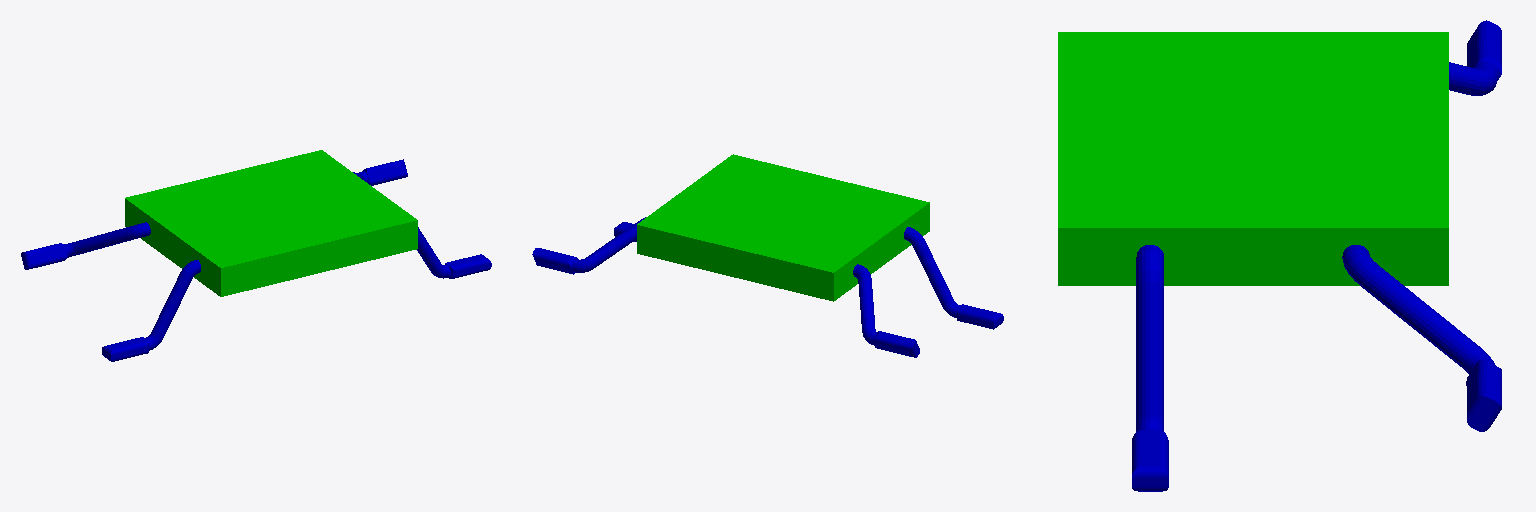
robot.urdf — Strirus:
<?xml version="1.0" ?>
<!-- =================================================================================== -->
<!-- |    This document was autogenerated by xacro from strirus.xacro                  | -->
<!-- |    EDITING THIS FILE BY HAND IS NOT RECOMMENDED                                 | -->
<!-- =================================================================================== -->
<robot name="Strirus" xmlns:xacro="http://www.ros.org/wiki/xacro">
  <!-- plugins -->
  <!--   <gazebo>
    <plugin name="gazebo_ros_control" filename="libgazebo_ros_control.so" >
      <robotNamespace>/strirus</robotNamespace>
    </plugin>
  </gazebo>
-->
  <gazebo>
    <plugin filename="libgazebo_ros_diff_drive.so" name="differential_drive_controller">
      <alwaysOn>true</alwaysOn>
      <updateRate>30</updateRate>
      <leftJoint>leg_left_0_revolute_joint</leftJoint>
      <rightJoint>leg_right_0_revolute_joint</rightJoint>
      <wheelSeparation>2.5</wheelSeparation>
      <wheelDiameter>0.4</wheelDiameter>
      <legacyMode>false</legacyMode>
      <torque>40</torque>
      <commandTopic>cmd_vel</commandTopic>
      <odometryTopic>odom</odometryTopic>
      <odometryFrame>odom</odometryFrame>
      <robotBaseFrame>base_link</robotBaseFrame>
    </plugin>
  </gazebo>
  <!-- Import Rviz colors -->
  <material name="black">
    <color rgba="0.0 0.0 0.0 1.0"/>
  </material>
  <material name="blue">
    <color rgba="0.0 0.0 0.8 1.0"/>
  </material>
  <material name="green">
    <color rgba="0.0 0.8 0.0 1.0"/>
  </material>
  <material name="grey">
    <color rgba="0.2 0.2 0.2 1.0"/>
  </material>
  <material name="orange">
    <color rgba="1.0 0.423529411765 0.0392156862745 1.0"/>
  </material>
  <material name="brown">
    <color rgba="0.870588235294 0.811764705882 0.764705882353 1.0"/>
  </material>
  <material name="red">
    <color rgba="0.8 0.0 0.0 1.0"/>
  </material>
  <material name="white">
    <color rgba="1.0 1.0 1.0 1.0"/>
  </material>
  <!-- Body description -->
  <link name="base_link"/>
  <joint name="base_link_body_fixed" type="fixed">
    <parent link="base_link"/>
    <child link="body"/>
  </joint>
  <!-- /////////////// -->
  <link name="body">
    <inertial>
      <!-- 250 value is mass density, the value is just empiric-->
      <mass value="0.0924358891325"/>
      <origin rpy="0  0  0" xyz="0 0.528205080757  0.5"/>
      <!-- 			<inertia 
				ixx="${1/12 * body_weight * (body_height * body_height + body_length * body_length)}"  ixy="0"  ixz="0" 
				iyy="${1/12 * body_weight * (body_height * body_height + body_width * body_width)}" iyz="0" 
				izz="${1/12 * body_weight * (body_length * body_length + body_width * body_width)}" /> -->
      <inertia ixx="0.000" ixy="0" ixz="0" iyy="0.000" iyz="0" izz="0.000"/>
    </inertial>
    <collision>
      <origin rpy="0  0  0" xyz="0 0.528205080757  0.5"/>
      <geometry>
        <box size="1.25 1.05641016151 0.175"/>
      </geometry>
    </collision>
    <visual>
      <origin rpy="0  0  0" xyz="0 0.528205080757  0.5"/>
      <geometry>
        <box size="1.25 1.05641016151 0.175"/>
      </geometry>
      <material name="green"/>
    </visual>
  </link>
  <link name="leg_left_1">
    <inertial>
      <mass value="0.05"/>
      <origin rpy="0  0  0" xyz="0 0 0"/>
      <inertia ixx="0.000" ixy="0" ixz="0" iyy="0.000" iyz="0" izz="0.000"/>
    </inertial>
    <collision>
      <origin rpy="1.0471975512 0 0" xyz="0 0 0"/>
      <geometry>
        <mesh filename="package://strirus_robot_description/meshes/stl/leg_30_degree_normal.stl" scale="1.0 1.0 1.0"/>
      </geometry>
      <gazebo>
        <surface>
          <friction>
            <ode>
              <mu>0.2000</mu>
              <mu2>0.2000</mu2>
              <fdir1>0.000000 0.000000 0.000000</fdir1>
              <slip1>0.000000</slip1>
              <slip2>0.000000</slip2>
            </ode>
          </friction>
          <bounce>
            <restitution_coefficient>0.000000</restitution_coefficient>
            <threshold>100000.000000</threshold>
          </bounce>
          <contact>
            <ode>
              <soft_cfm>0.000000</soft_cfm>
              <soft_erp>0.200000</soft_erp>
              <kp>100000.000000</kp>
              <kd>1.000000</kd>
              <max_vel>100.000000</max_vel>
              <min_depth>0.001000</min_depth>
            </ode>
          </contact>
        </surface>
      </gazebo>
    </collision>
    <visual>
      <origin rpy="1.0471975512 0 0" xyz="0 0 0"/>
      <geometry>
        <mesh filename="package://strirus_robot_description/meshes/stl/leg_30_degree_normal.stl" scale="1.0 1.0 1.0"/>
      </geometry>
      <material name="blue"/>
    </visual>
  </link>
  <!-- /////////////// -->
  <joint name="leg_left_1_revolute_joint" type="revolute">
    <parent link="body"/>
    <child link="leg_left_1"/>
    <origin rpy="0       0      0" xyz="0.25 0.806410161514  0.5"/>
    <axis xyz="1 0  0"/>
    <limit effort="30" lower="-1e+100" upper="1e+100" velocity="10"/>
    <joint_properties damping="0.0" friction="0.0"/>
  </joint>
  <!-- /////////////// -->
  <transmission name="leg_left_1_transmission">
    <type>transmission_interface/SimpleTransmission</type>
    <joint name="leg_left_1_revolute_joint">
      <hardwareInterface>VelocityJointInterface</hardwareInterface>
    </joint>
    <actuator name="leg_left_0_actuator">
      <hardwareInterface>VelocityJointInterface</hardwareInterface>
      <mechanicalReduction>1</mechanicalReduction>
    </actuator>
  </transmission>
  <link name="leg_left_0">
    <inertial>
      <mass value="0.05"/>
      <origin rpy="0  0  0" xyz="0 0 0"/>
      <inertia ixx="0.000" ixy="0" ixz="0" iyy="0.000" iyz="0" izz="0.000"/>
    </inertial>
    <collision>
      <origin rpy="0.0 0 0" xyz="0 0 0"/>
      <geometry>
        <mesh filename="package://strirus_robot_description/meshes/stl/leg_30_degree_normal.stl" scale="1.0 1.0 1.0"/>
      </geometry>
      <gazebo>
        <surface>
          <friction>
            <ode>
              <mu>0.2000</mu>
              <mu2>0.2000</mu2>
              <fdir1>0.000000 0.000000 0.000000</fdir1>
              <slip1>0.000000</slip1>
              <slip2>0.000000</slip2>
            </ode>
          </friction>
          <bounce>
            <restitution_coefficient>0.000000</restitution_coefficient>
            <threshold>100000.000000</threshold>
          </bounce>
          <contact>
            <ode>
              <soft_cfm>0.000000</soft_cfm>
              <soft_erp>0.200000</soft_erp>
              <kp>100000.000000</kp>
              <kd>1.000000</kd>
              <max_vel>100.000000</max_vel>
              <min_depth>0.001000</min_depth>
            </ode>
          </contact>
        </surface>
      </gazebo>
    </collision>
    <visual>
      <origin rpy="0.0 0 0" xyz="0 0 0"/>
      <geometry>
        <mesh filename="package://strirus_robot_description/meshes/stl/leg_30_degree_normal.stl" scale="1.0 1.0 1.0"/>
      </geometry>
      <material name="blue"/>
    </visual>
  </link>
  <!-- /////////////// -->
  <joint name="leg_left_0_revolute_joint" type="revolute">
    <parent link="body"/>
    <child link="leg_left_0"/>
    <origin rpy="0       0      0" xyz="0.25 0.25  0.5"/>
    <axis xyz="1 0  0"/>
    <limit effort="30" lower="-1e+100" upper="1e+100" velocity="10"/>
    <joint_properties damping="0.0" friction="0.0"/>
  </joint>
  <!-- /////////////// -->
  <transmission name="leg_left_0_transmission">
    <type>transmission_interface/SimpleTransmission</type>
    <joint name="leg_left_0_revolute_joint">
      <hardwareInterface>VelocityJointInterface</hardwareInterface>
    </joint>
    <actuator name="leg_left_0_actuator">
      <hardwareInterface>VelocityJointInterface</hardwareInterface>
      <mechanicalReduction>1</mechanicalReduction>
    </actuator>
  </transmission>
  <link name="leg_right_1">
    <inertial>
      <mass value="0.05"/>
      <origin rpy="0  0  0" xyz="0 0 0"/>
      <inertia ixx="0.000" ixy="0" ixz="0" iyy="0.000" iyz="0" izz="0.000"/>
    </inertial>
    <collision>
      <origin rpy="5.23598775598 0 3.14159265359" xyz="0 0 0"/>
      <geometry>
        <mesh filename="package://strirus_robot_description/meshes/stl/leg_30_degree_normal.stl" scale="1.0 1.0 1.0"/>
      </geometry>
      <gazebo>
        <surface>
          <friction>
            <ode>
              <mu>0.2000</mu>
              <mu2>0.2000</mu2>
              <fdir1>0.000000 0.000000 0.000000</fdir1>
              <slip1>0.000000</slip1>
              <slip2>0.000000</slip2>
            </ode>
          </friction>
          <bounce>
            <restitution_coefficient>0.000000</restitution_coefficient>
            <threshold>100000.000000</threshold>
          </bounce>
          <contact>
            <ode>
              <soft_cfm>0.000000</soft_cfm>
              <soft_erp>0.200000</soft_erp>
              <kp>100000.000000</kp>
              <kd>1.000000</kd>
              <max_vel>100.000000</max_vel>
              <min_depth>0.001000</min_depth>
            </ode>
          </contact>
        </surface>
      </gazebo>
    </collision>
    <visual>
      <origin rpy="5.23598775598 0 3.14159265359" xyz="0 0 0"/>
      <geometry>
        <mesh filename="package://strirus_robot_description/meshes/stl/leg_30_degree_normal.stl" scale="1.0 1.0 1.0"/>
      </geometry>
      <material name="blue"/>
    </visual>
  </link>
  <!-- /////////////// -->
  <joint name="leg_right_1_revolute_joint" type="revolute">
    <parent link="body"/>
    <child link="leg_right_1"/>
    <origin rpy="0       0      0" xyz="-0.25 0.806410161514  0.5"/>
    <axis xyz="1 0  0"/>
    <limit effort="30" lower="-1e+100" upper="1e+100" velocity="10"/>
    <joint_properties damping="0.0" friction="0.0"/>
  </joint>
  <!-- /////////////// -->
  <transmission name="leg_right_1_transmission">
    <type>transmission_interface/SimpleTransmission</type>
    <joint name="leg_right_1_revolute_joint">
      <hardwareInterface>VelocityJointInterface</hardwareInterface>
    </joint>
    <actuator name="leg_right_0_actuator">
      <hardwareInterface>VelocityJointInterface</hardwareInterface>
      <mechanicalReduction>1</mechanicalReduction>
    </actuator>
  </transmission>
  <link name="leg_right_0">
    <inertial>
      <mass value="0.05"/>
      <origin rpy="0  0  0" xyz="0 0 0"/>
      <inertia ixx="0.000" ixy="0" ixz="0" iyy="0.000" iyz="0" izz="0.000"/>
    </inertial>
    <collision>
      <origin rpy="0.0 0 3.14159265359" xyz="0 0 0"/>
      <geometry>
        <mesh filename="package://strirus_robot_description/meshes/stl/leg_30_degree_normal.stl" scale="1.0 1.0 1.0"/>
      </geometry>
      <gazebo>
        <surface>
          <friction>
            <ode>
              <mu>0.2000</mu>
              <mu2>0.2000</mu2>
              <fdir1>0.000000 0.000000 0.000000</fdir1>
              <slip1>0.000000</slip1>
              <slip2>0.000000</slip2>
            </ode>
          </friction>
          <bounce>
            <restitution_coefficient>0.000000</restitution_coefficient>
            <threshold>100000.000000</threshold>
          </bounce>
          <contact>
            <ode>
              <soft_cfm>0.000000</soft_cfm>
              <soft_erp>0.200000</soft_erp>
              <kp>100000.000000</kp>
              <kd>1.000000</kd>
              <max_vel>100.000000</max_vel>
              <min_depth>0.001000</min_depth>
            </ode>
          </contact>
        </surface>
      </gazebo>
    </collision>
    <visual>
      <origin rpy="0.0 0 3.14159265359" xyz="0 0 0"/>
      <geometry>
        <mesh filename="package://strirus_robot_description/meshes/stl/leg_30_degree_normal.stl" scale="1.0 1.0 1.0"/>
      </geometry>
      <material name="blue"/>
    </visual>
  </link>
  <!-- /////////////// -->
  <joint name="leg_right_0_revolute_joint" type="revolute">
    <parent link="body"/>
    <child link="leg_right_0"/>
    <origin rpy="0       0      0" xyz="-0.25 0.25  0.5"/>
    <axis xyz="1 0  0"/>
    <limit effort="30" lower="-1e+100" upper="1e+100" velocity="10"/>
    <joint_properties damping="0.0" friction="0.0"/>
  </joint>
  <!-- /////////////// -->
  <transmission name="leg_right_0_transmission">
    <type>transmission_interface/SimpleTransmission</type>
    <joint name="leg_right_0_revolute_joint">
      <hardwareInterface>VelocityJointInterface</hardwareInterface>
    </joint>
    <actuator name="leg_right_0_actuator">
      <hardwareInterface>VelocityJointInterface</hardwareInterface>
      <mechanicalReduction>1</mechanicalReduction>
    </actuator>
  </transmission>
  <gazebo>
    <joint name="legs_left_1_0_gearbox_joint" type="gearbox">
      <parent>leg_left_0</parent>
      <child>leg_left_1</child>
      <gearbox_ratio>-1</gearbox_ratio>
      <gearbox_reference_body>base_link</gearbox_reference_body>
      <axis>
        <xyz>1.000000 0.000000 0.000000</xyz>
        <use_parent_model_frame>true</use_parent_model_frame>
      </axis>
      <axis2>
        <xyz>1.000000 0.000000 0.000000</xyz>
        <use_parent_model_frame>true</use_parent_model_frame>
      </axis2>
    </joint>
    <joint name="legs_right_1_0_gearbox_joint" type="gearbox">
      <parent>leg_right_0</parent>
      <child>leg_right_1</child>
      <gearbox_ratio>-1</gearbox_ratio>
      <gearbox_reference_body>base_link</gearbox_reference_body>
      <axis>
        <xyz>1.000000 0.000000 0.000000</xyz>
        <use_parent_model_frame>true</use_parent_model_frame>
      </axis>
      <axis2>
        <xyz>1.000000 0.000000 0.000000</xyz>
        <use_parent_model_frame>true</use_parent_model_frame>
      </axis2>
    </joint>
  </gazebo>
</robot>

--- Facts derived from the render (not from the file) ---
The picture shows the robot from 3 angles, left to right: view 1: azimuth 30°, elevation 25°; view 2: azimuth 150°, elevation 25°; view 3: azimuth 270°, elevation 25°; orthographic projection.
Robot: Strirus — 6 links, 5 joints (4 revolute, 1 fixed); root link base_link; default pose: every joint at zero.
Visible links, largest first — view 1: body, leg_right_0, leg_right_1, leg_left_0, leg_left_1; view 2: body, leg_right_0, leg_right_1, leg_left_1; view 3: body, leg_left_0, leg_left_1, leg_right_1.
Link boxes in pixels (bbox=[...]): body: bbox=[125, 150, 417, 296]; leg_right_0: bbox=[102, 260, 200, 361]; leg_right_1: bbox=[21, 222, 150, 269]; leg_left_0: bbox=[417, 227, 491, 278]; leg_left_1: bbox=[353, 159, 407, 185]; body: bbox=[637, 154, 929, 301]; leg_right_0: bbox=[904, 227, 1003, 329]; leg_right_1: bbox=[853, 264, 919, 357]; leg_left_1: bbox=[532, 217, 645, 274]; body: bbox=[1058, 32, 1448, 285]; leg_left_0: bbox=[1132, 245, 1168, 491]; leg_left_1: bbox=[1342, 245, 1501, 431]; leg_right_1: bbox=[1449, 20, 1501, 95].
Bounding box of the posed robot: 2.41 × 1.2 × 0.525 m (x, y, z).
Meshes: 1 distinct files referenced, 4 mesh visuals loaded (1 binary STL).
